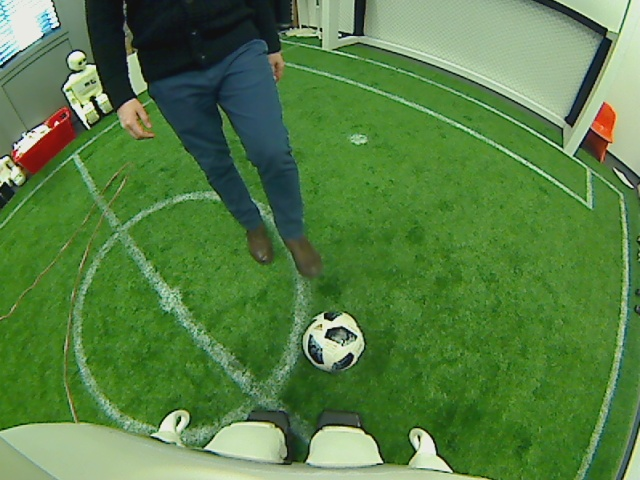ball: (303, 309, 364, 374)
